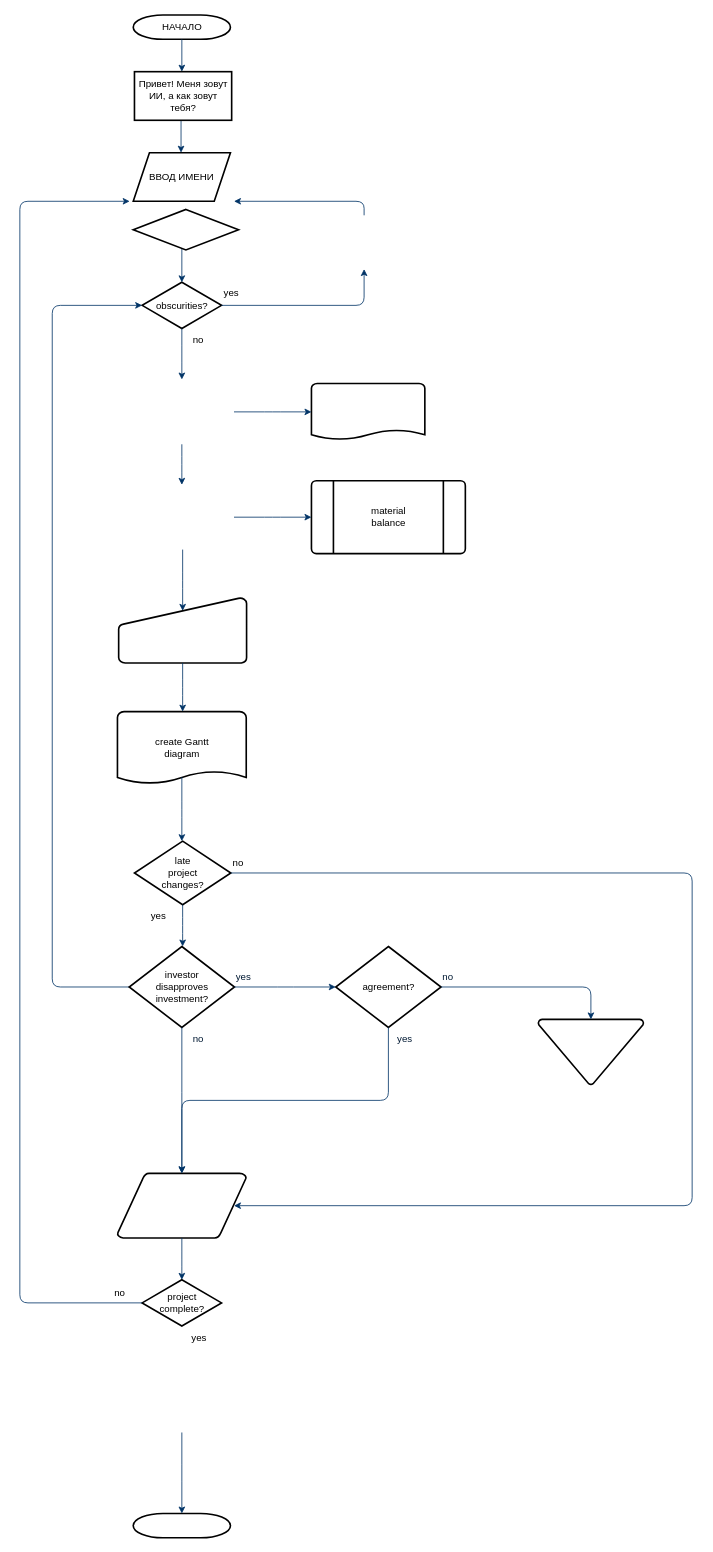
This 713x1552 diagram has some shape labels left out. Here are the shapes that lost their labels. From the top down, the centre of each, then its label:
At point (367, 411): "final project".
At point (182, 630): "organize workforce".
At point (590, 1051): "terminate contract".
At point (181, 1205): "create status report".
At point (181, 1525): "end".
